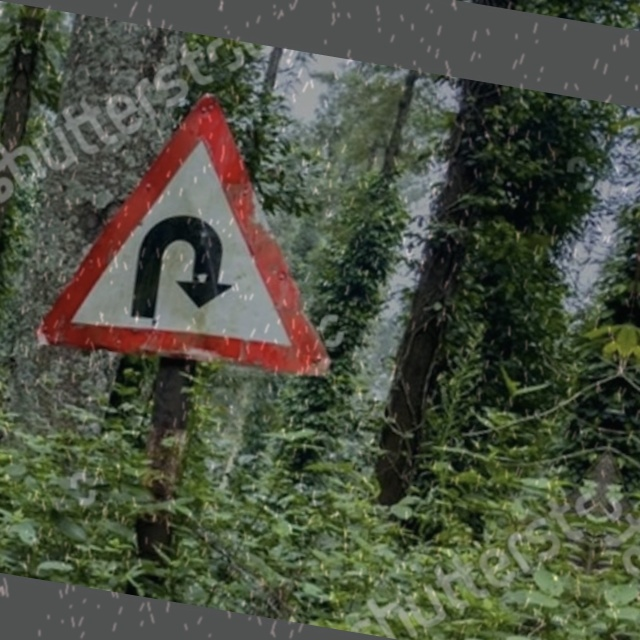Right_Hair_Pin_Bend: (40, 72, 369, 377)
